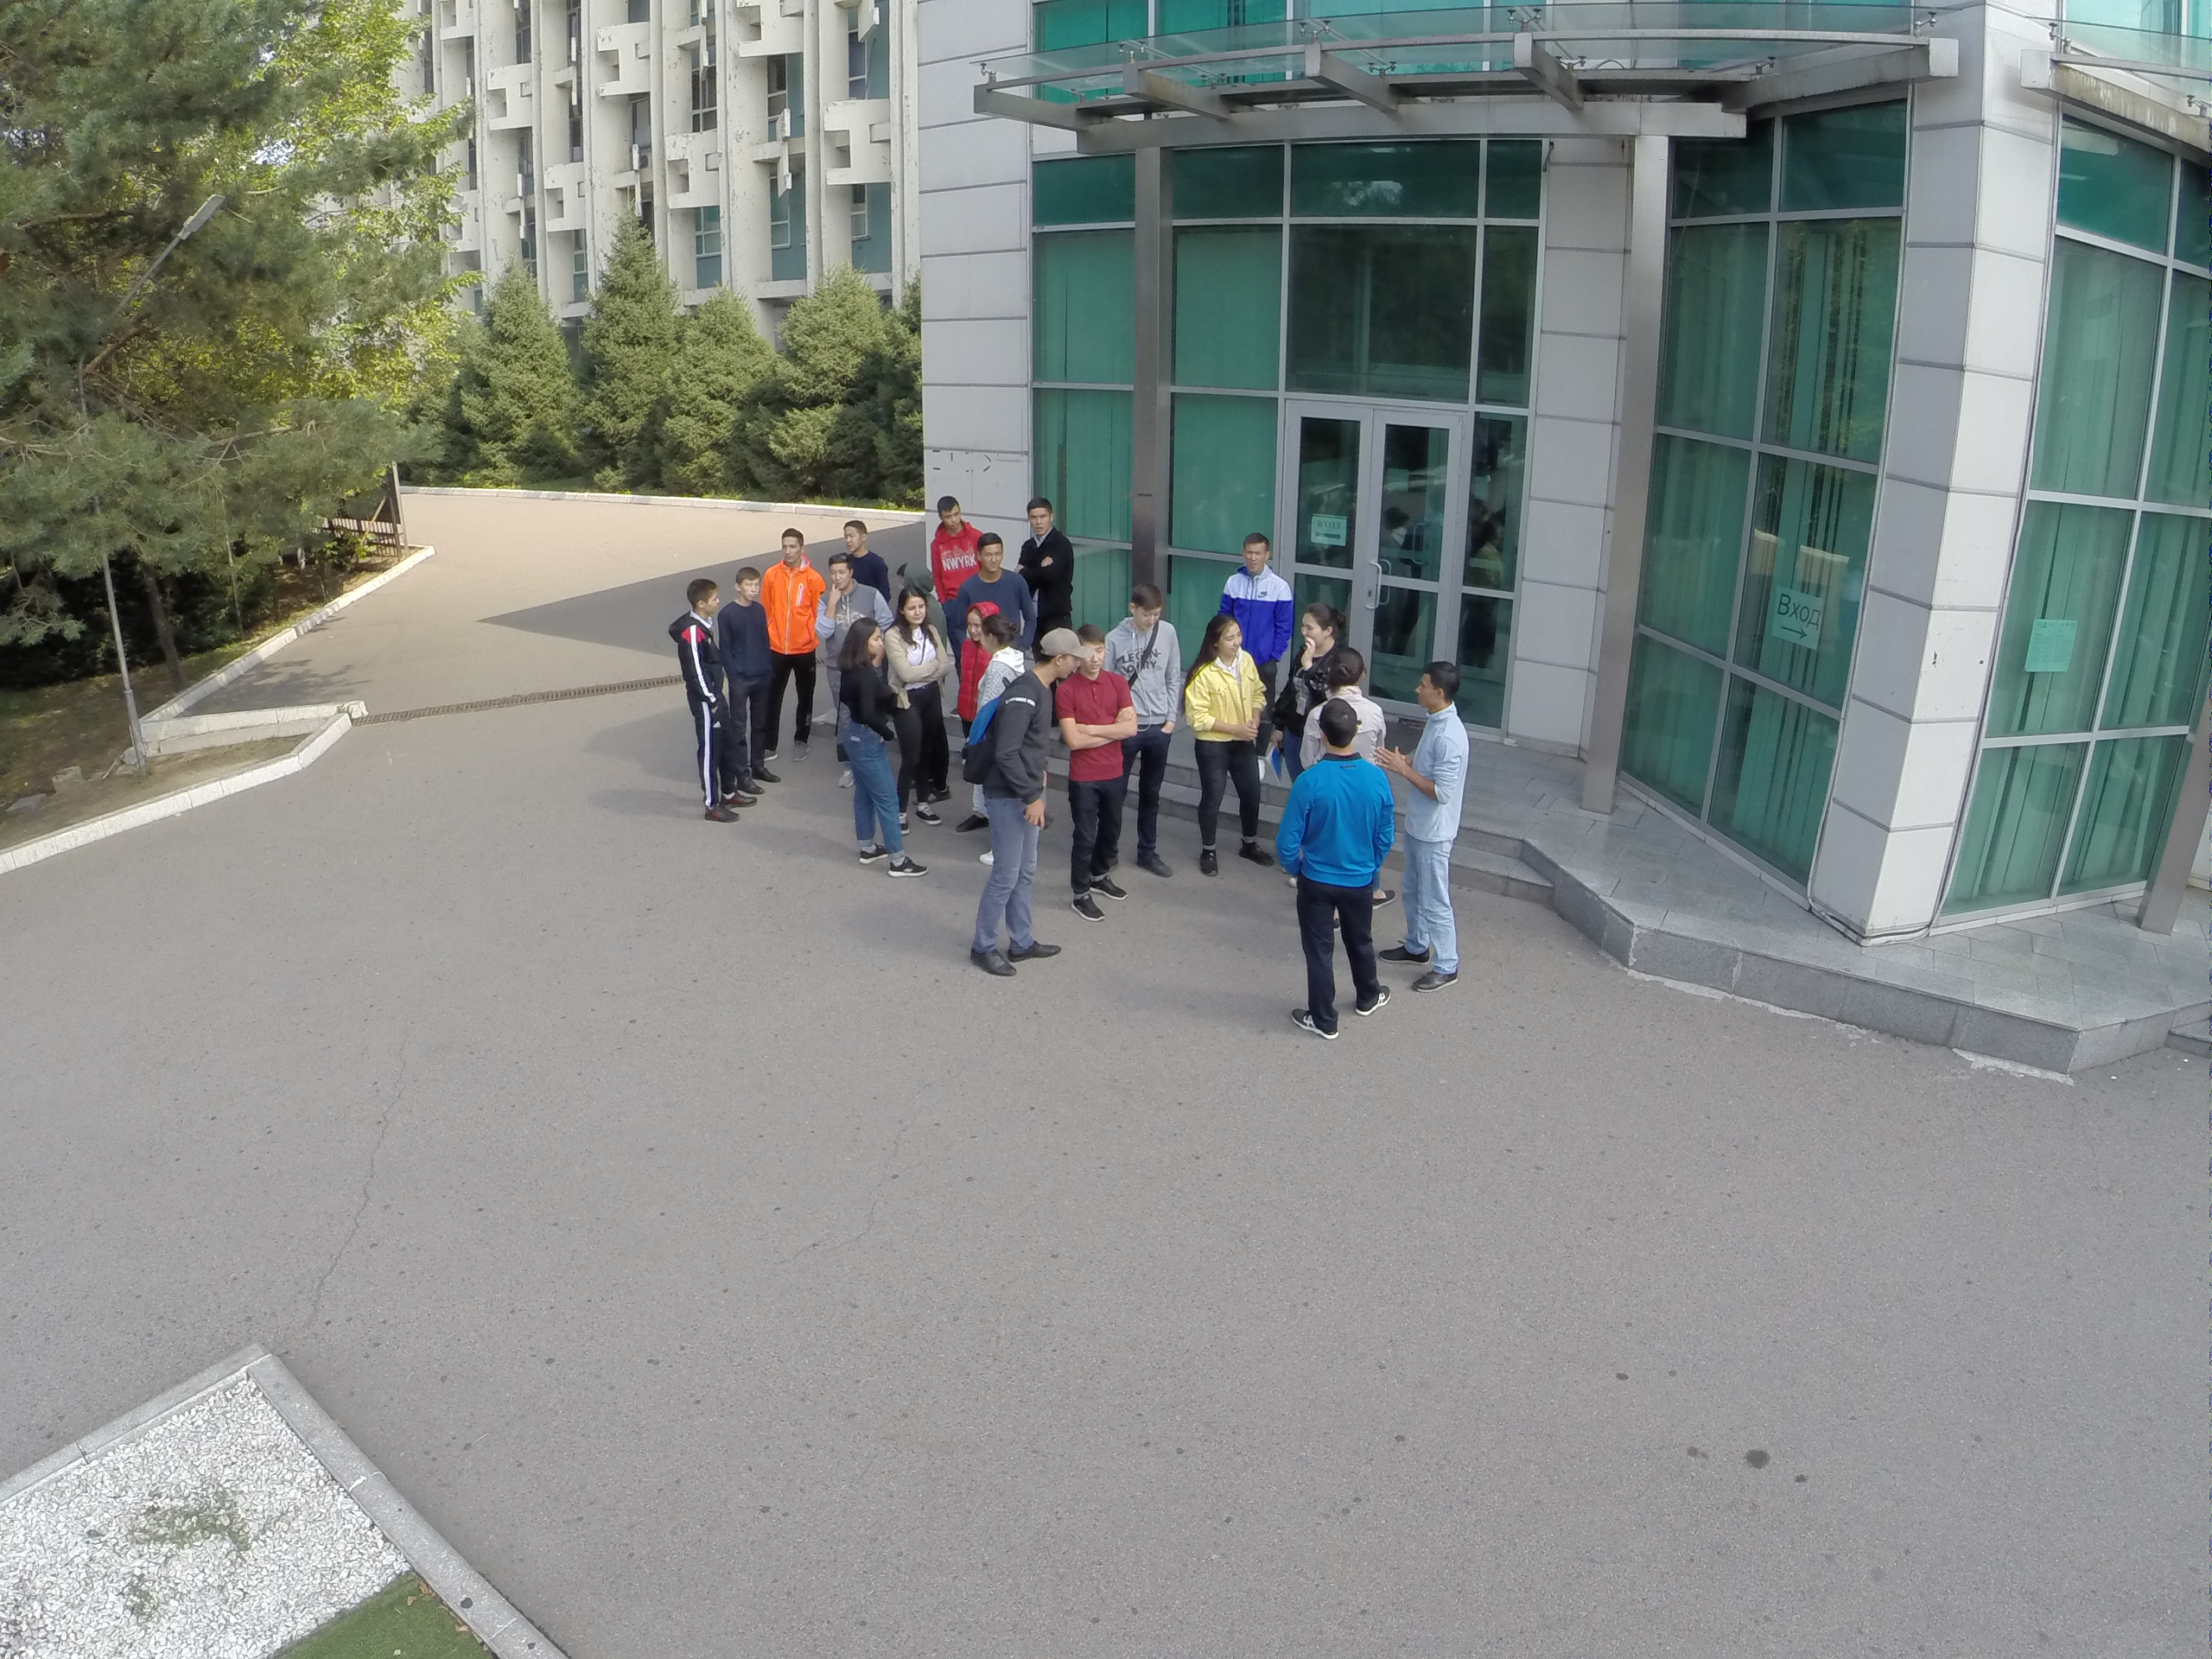person: (1287, 708, 1392, 1047), (991, 621, 1073, 981), (1387, 657, 1471, 995), (652, 572, 757, 825), (1183, 618, 1276, 875), (837, 624, 927, 887), (1058, 631, 1131, 914), (1118, 578, 1181, 882), (714, 566, 776, 794), (887, 583, 944, 824), (769, 526, 820, 760), (1277, 600, 1341, 731), (1217, 537, 1291, 643), (1022, 495, 1076, 614), (961, 531, 1025, 613), (1327, 650, 1384, 724), (816, 557, 885, 613), (931, 498, 974, 578), (984, 622, 1032, 683), (838, 521, 892, 569)
